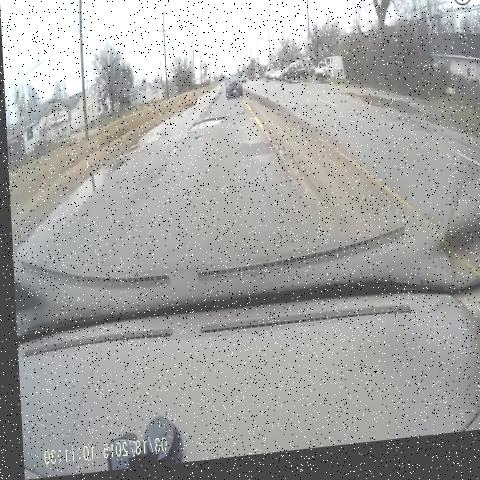pothole: (255, 123, 295, 189), (181, 111, 229, 151), (232, 109, 248, 131)
